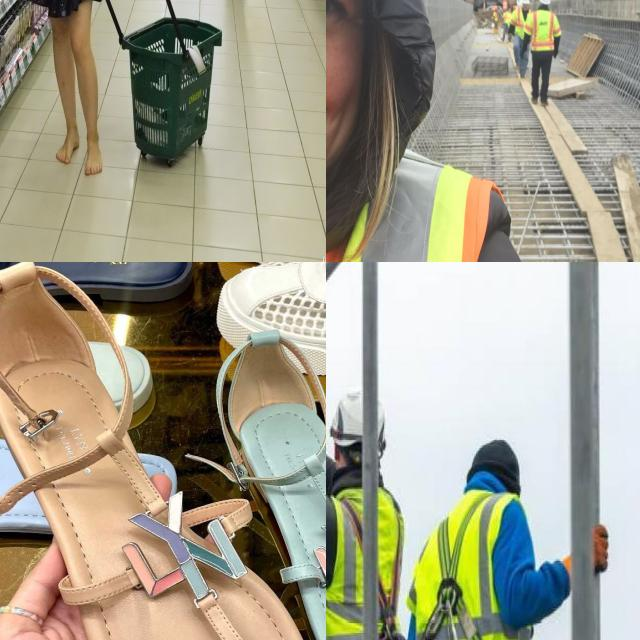Barefoots: (56, 132, 80, 164), (85, 141, 102, 175)
Harness: (421, 503, 480, 640)
Sandals: (0, 262, 326, 640), (195, 305, 326, 640)
face_nomask: (326, 0, 395, 200)
head_helmet: (538, 0, 554, 7), (522, 0, 528, 6)
person: (326, 0, 553, 262), (530, 0, 564, 103), (512, 0, 531, 75)
vest: (530, 11, 565, 54), (511, 8, 533, 37)
